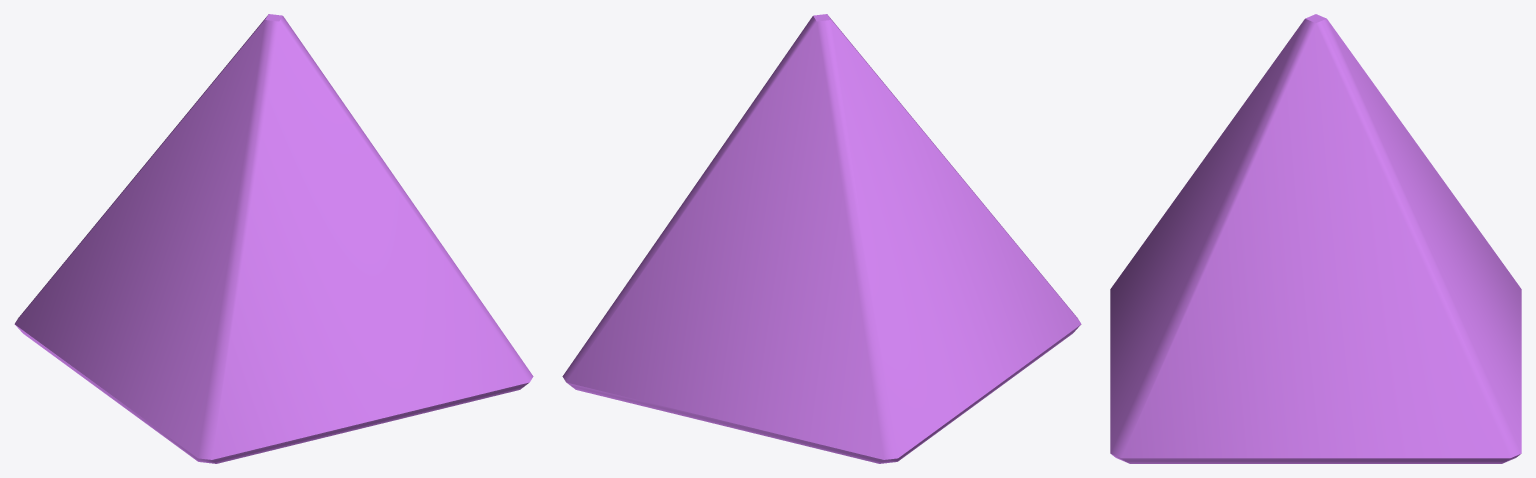
File: WispV1_Agro.fbx
3 views of the same model, side by side, from view 1: azimuth 30°, elevation 25°; view 2: azimuth 150°, elevation 25°; view 3: azimuth 270°, elevation 25° (orthographic). The views are drawn at different scales.
Visible parts, largest first — view 1: WispV1_Agro; view 2: WispV1_Agro; view 3: WispV1_Agro.
Boxes of the visible parts, x1,y1,x2,y2 form: WispV1_Agro: [14, 14, 533, 463]; WispV1_Agro: [562, 14, 1081, 463]; WispV1_Agro: [1110, 14, 1521, 463].
Size of the model in its own units: 24.47 by 23.7 by 24.47.
